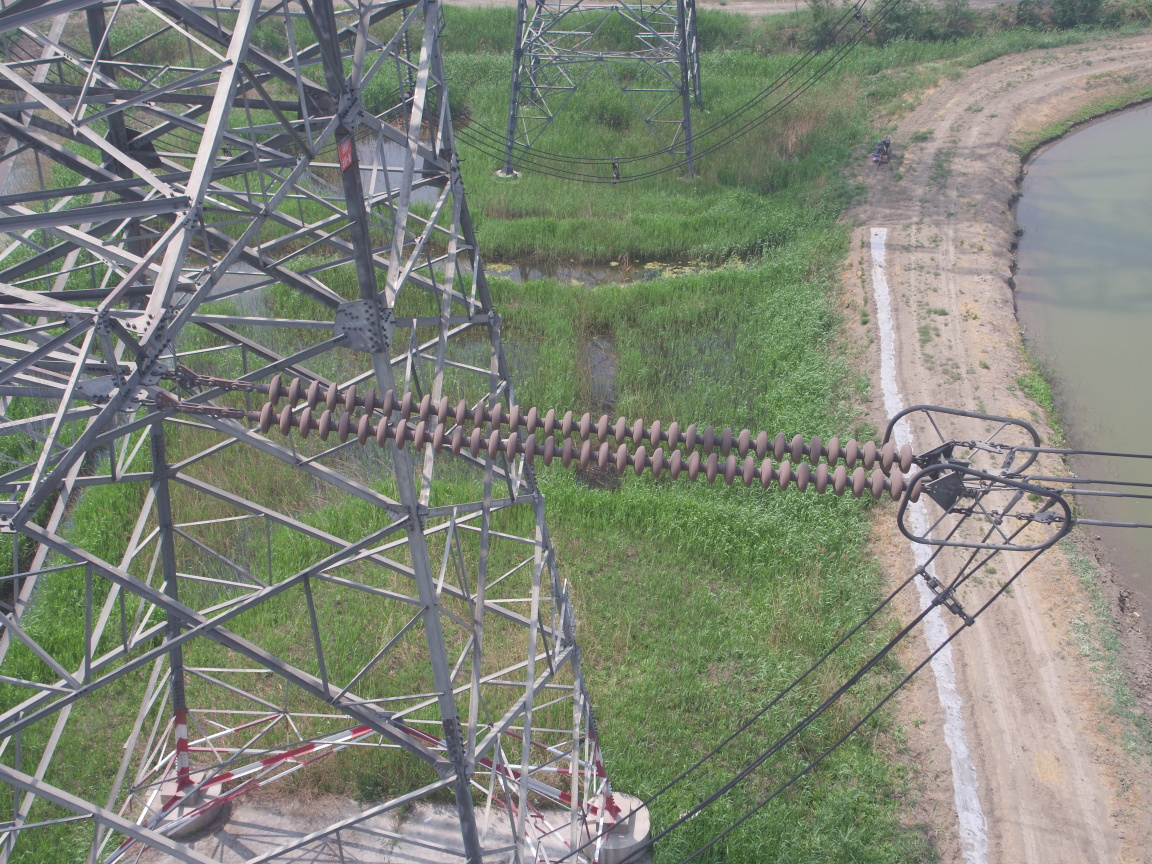insulator: (208, 371, 940, 509)
